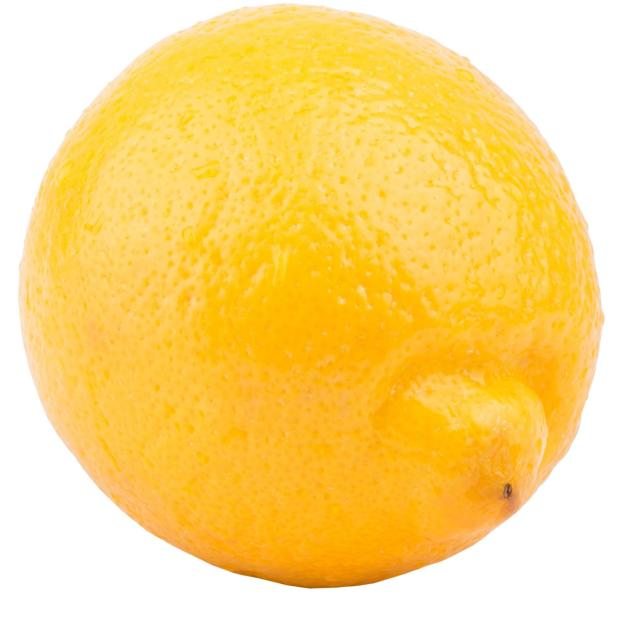lemon: (6, 1, 618, 610)
